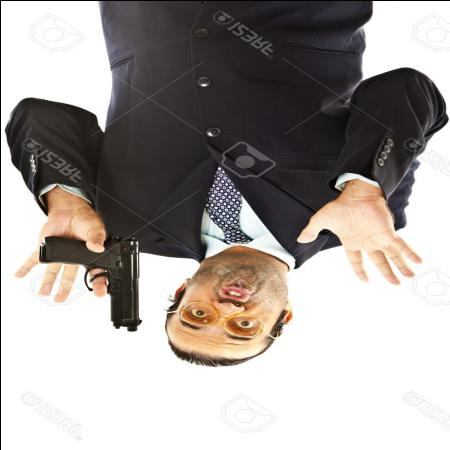Pistol: (38, 232, 140, 332)
